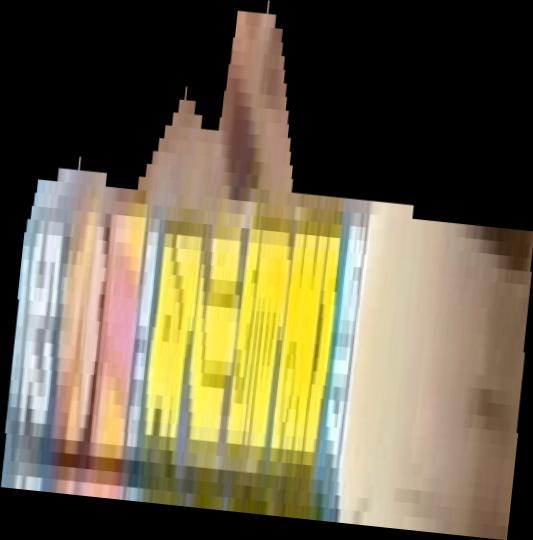flat: (1, 1, 533, 540)
